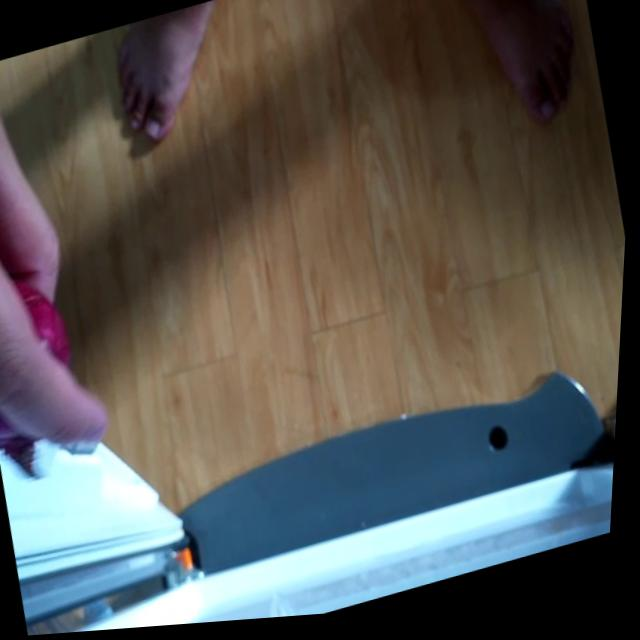onion: (0, 260, 103, 481)
